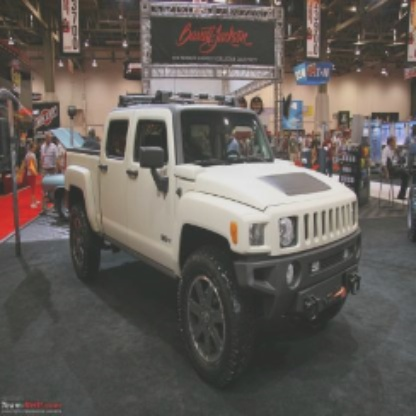Vehicle: (64, 90, 362, 394)
